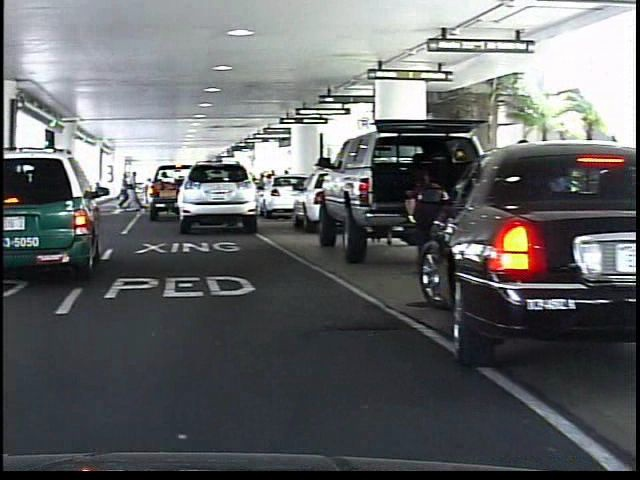person: (399, 156, 452, 269)
